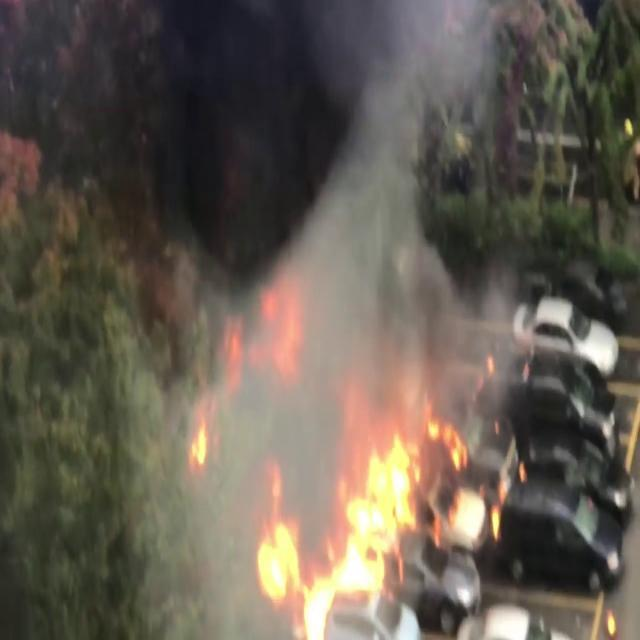Fire: (256, 401, 494, 633)
Smoke: (102, 1, 506, 419)
